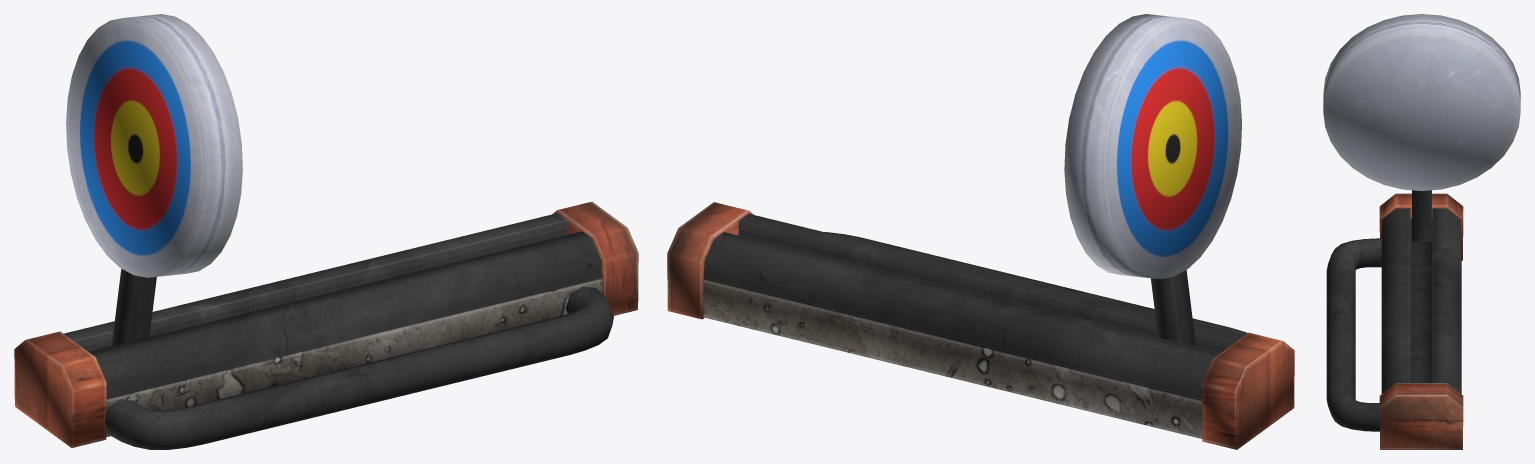
File: tombolaso-target-1.glb
3 renders of one model, left to right at view 1: azimuth 30°, elevation 25°; view 2: azimuth 150°, elevation 25°; view 3: azimuth 270°, elevation 25°, orthographic. The views are drawn at different scales.
Visible parts, largest first — view 1: 01_Props.001, TargetsTextureRT.002; view 2: 01_Props.001, TargetsTextureRT.002; view 3: TargetsTextureRT.002, 01_Props.001.
Part boxes in pixels (box(x1,y1,x2,y2)): 01_Props.001: box(14, 201, 638, 449); TargetsTextureRT.002: box(66, 14, 242, 345); 01_Props.001: box(667, 202, 1294, 449); TargetsTextureRT.002: box(1064, 14, 1241, 346); TargetsTextureRT.002: box(1323, 14, 1520, 241); 01_Props.001: box(1326, 193, 1463, 449).
Bounding box in the file's own units: 5.13 × 3.23 × 2.12.
1 material, 1 textured.
